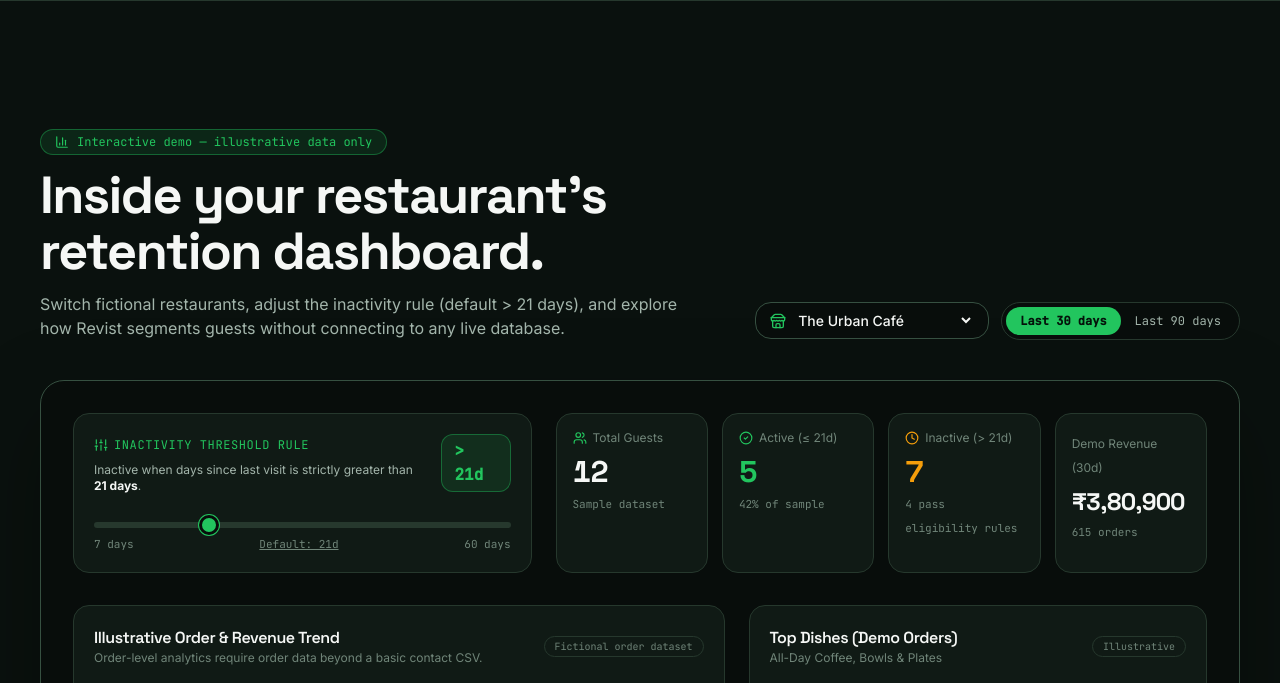
Test: Revist 2.0 Interactive Components › enforces strictly greater-than inactivity threshold in Dashboard Demo
// Default threshold is 21: customer_3 (21d) is Active, customer_2 (22d) is Inactive
Set the slider named "Adjust inactivity threshold in days" to "20" at (200, 525), box [94,522,510,528]
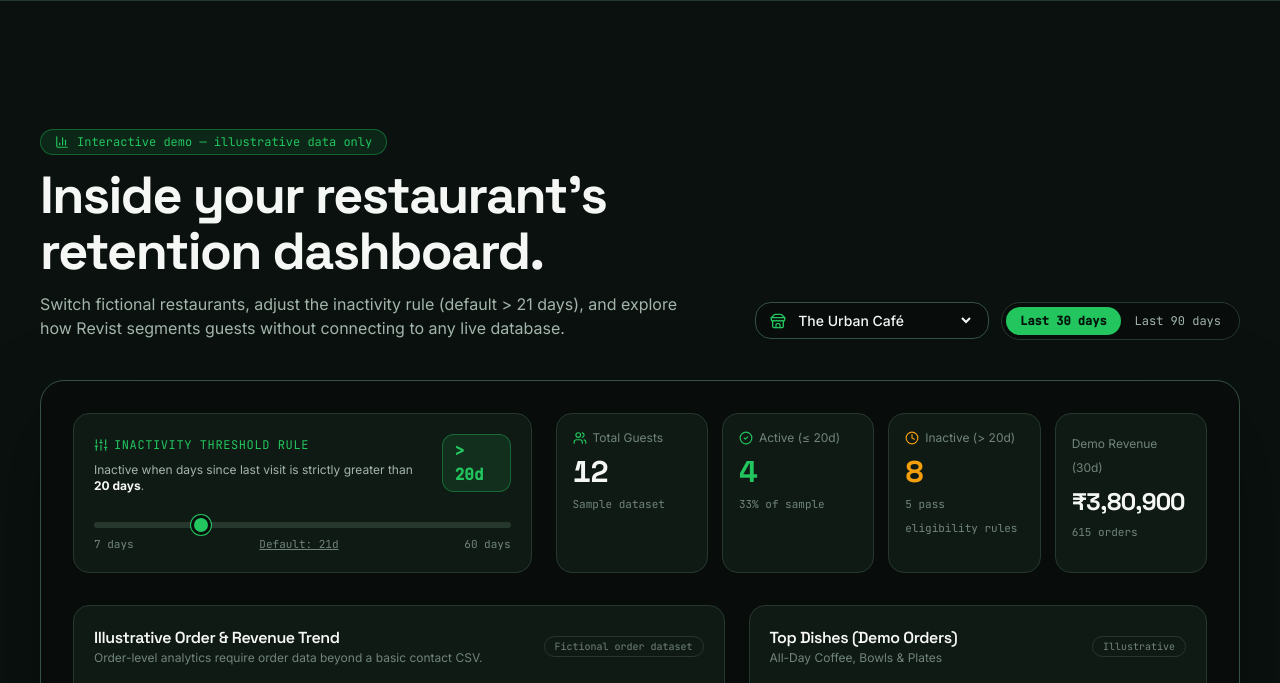
Expected: the text "> 20d" is shown, [442,434,510,492]
